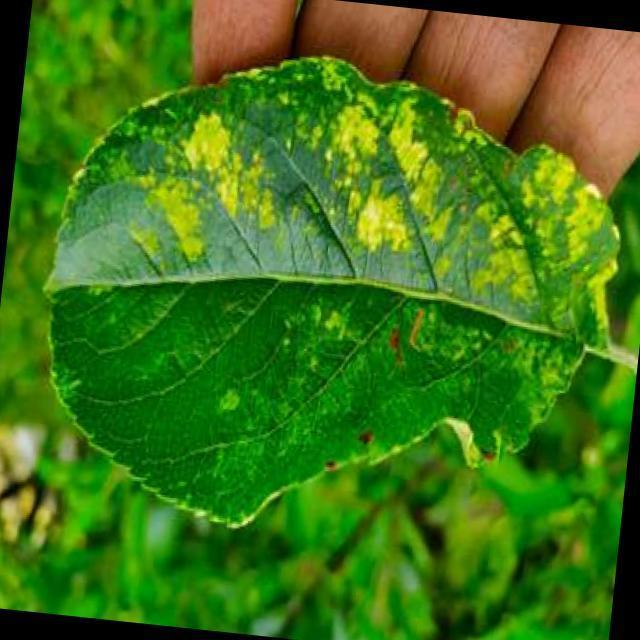Mosaic Virus: (61, 60, 640, 481)
